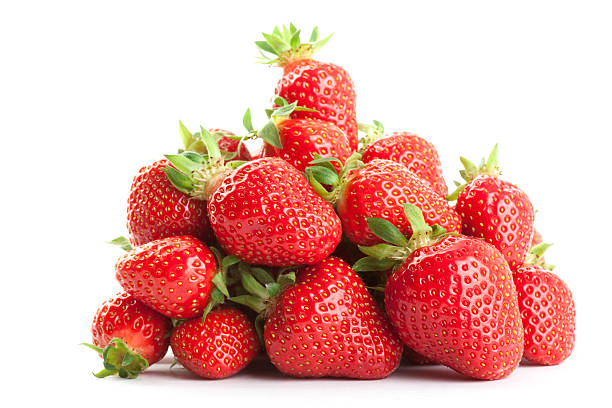Fresa: (381, 228, 528, 384), (264, 250, 406, 383), (209, 155, 345, 269), (341, 154, 466, 252), (112, 227, 221, 322), (271, 50, 362, 156), (452, 168, 537, 274), (502, 261, 578, 370), (126, 157, 214, 249), (169, 300, 266, 379), (92, 288, 175, 372), (361, 129, 451, 204)
